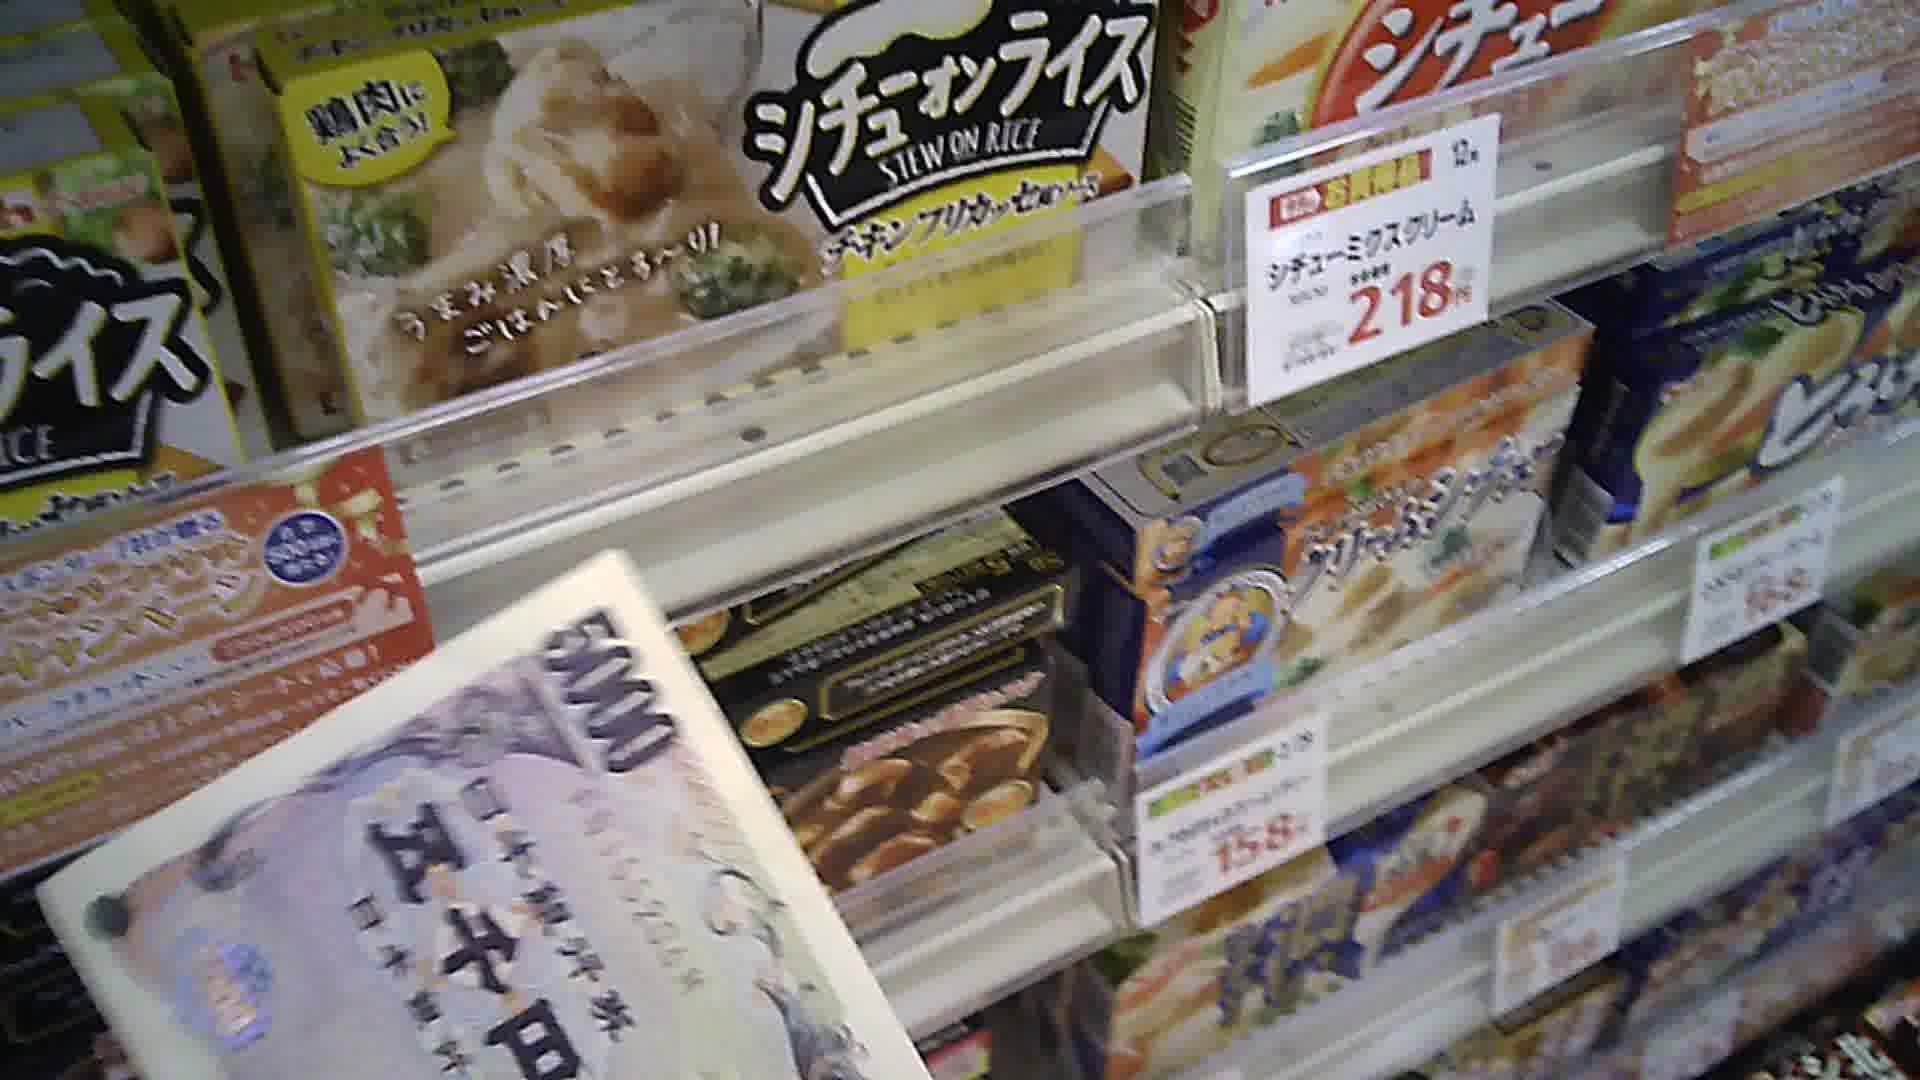5,000 Yen: (30, 533, 898, 1079)
